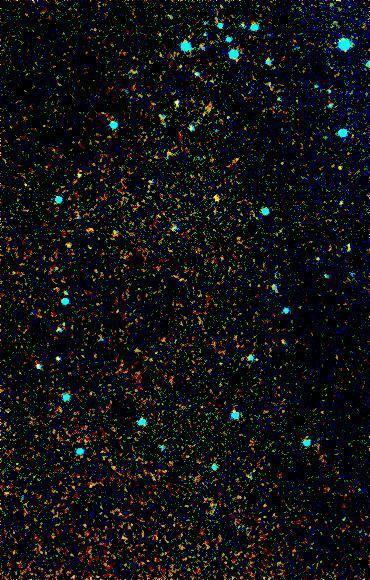star: (202, 182, 232, 212)
